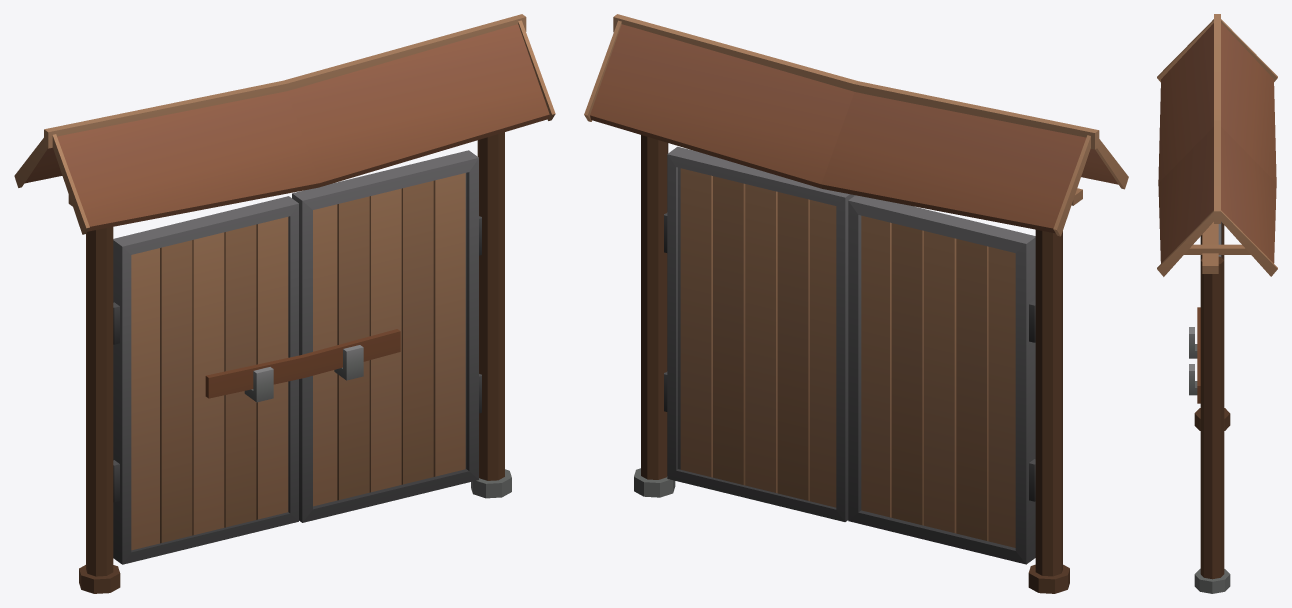
Rendered from Gate_1.fbx.
3 views of the same model, side by side, from view 1: azimuth 30°, elevation 25°; view 2: azimuth 150°, elevation 25°; view 3: azimuth 270°, elevation 25° (orthographic). The views are drawn at different scales.
Visible parts, largest first — view 1: Gate_1, GateDoor_2, GateDoor_1, GateOpener_1; view 2: Gate_1, GateDoor_2, GateDoor_1; view 3: Gate_1, GateOpener_1, GateDoor_1, GateDoor_2.
Part boxes in pixels (left/top/right/bottom): Gate_1: left=14, top=14, right=555, bottom=593; GateDoor_2: left=113, top=196, right=298, bottom=564; GateDoor_1: left=292, top=150, right=478, bottom=522; GateOpener_1: left=205, top=329, right=400, bottom=398; Gate_1: left=584, top=14, right=1128, bottom=593; GateDoor_2: left=848, top=195, right=1035, bottom=564; GateDoor_1: left=667, top=146, right=854, bottom=521; Gate_1: left=1157, top=14, right=1277, bottom=593; GateOpener_1: left=1197, top=307, right=1200, bottom=403; GateDoor_1: left=1189, top=224, right=1220, bottom=395; GateDoor_2: left=1189, top=221, right=1221, bottom=358.
Size of the model in its own units: 304 by 282 by 79.03.
